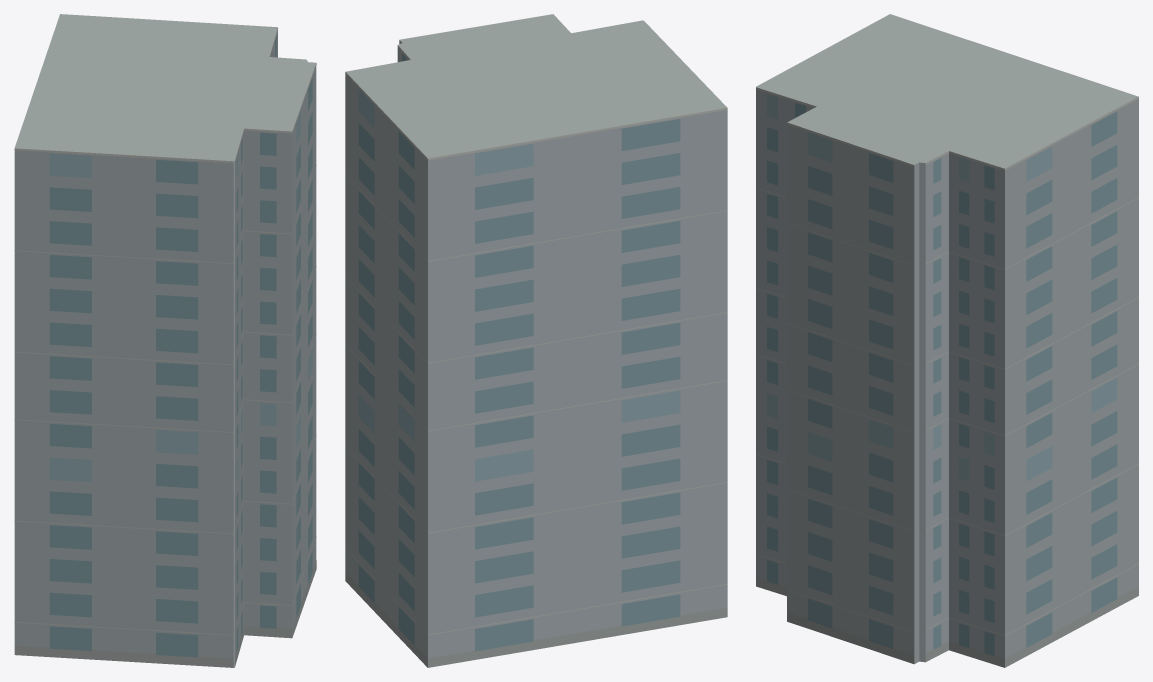
The model's file is survey-upis-32486618.glb.
3 renders of one model, left to right at view 1: azimuth 30°, elevation 25°; view 2: azimuth 150°, elevation 25°; view 3: azimuth 270°, elevation 25°, orthographic. The views are drawn at different scales.
Visible parts, largest first — view 1: survey-upis-32486618.tmp; view 2: survey-upis-32486618.tmp; view 3: survey-upis-32486618.tmp.
Part boxes in pixels (x1,y1,x2,y2): survey-upis-32486618.tmp: (14, 14, 316, 667); survey-upis-32486618.tmp: (345, 14, 727, 667); survey-upis-32486618.tmp: (756, 14, 1138, 667).
Size of the model in its own units: 39.5 by 59.4 by 41.29.
